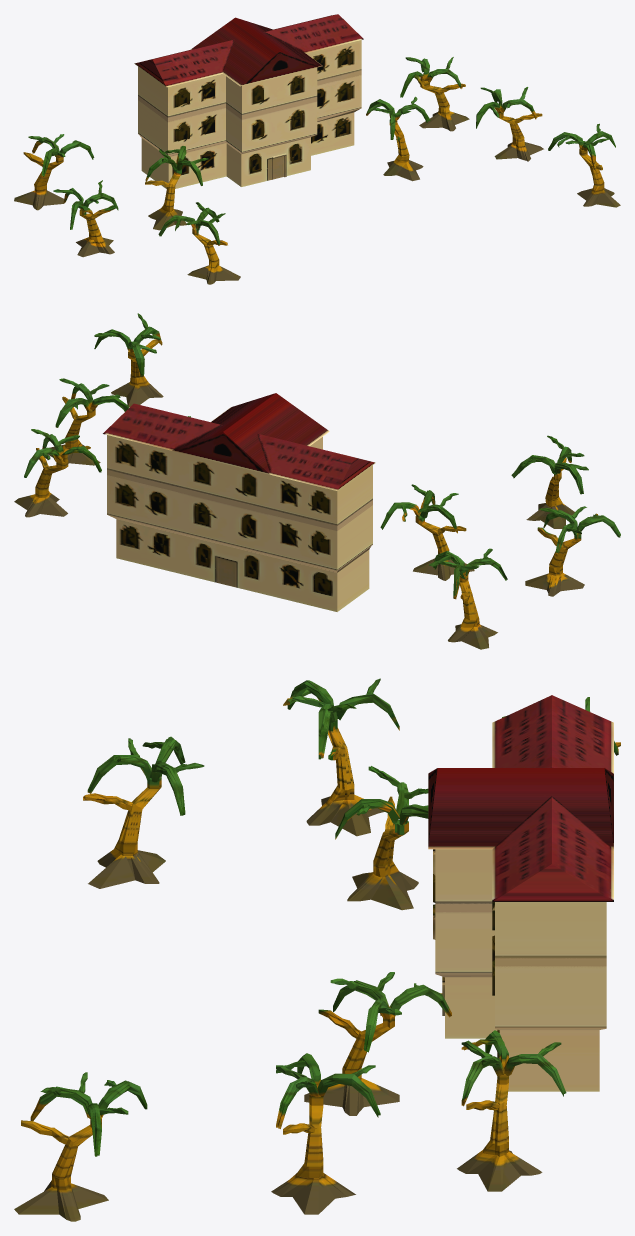
File: Asylum.glb
3 renders of one model, top to bottom at view 1: azimuth 30°, elevation 25°; view 2: azimuth 150°, elevation 25°; view 3: azimuth 270°, elevation 25°, orthographic. The views are drawn at different scales.
Visible parts, largest first — view 1: Asylum; view 2: Asylum; view 3: Asylum.
Boxes of the visible parts, x1=… form: Asylum: x1=14, y1=14, x2=620, y2=284; Asylum: x1=14, y1=313, x2=620, y2=649; Asylum: x1=14, y1=678, x2=620, y2=1221.
Size of the model in its own units: 277 by 69.32 by 158.
1 material, 1 textured.
